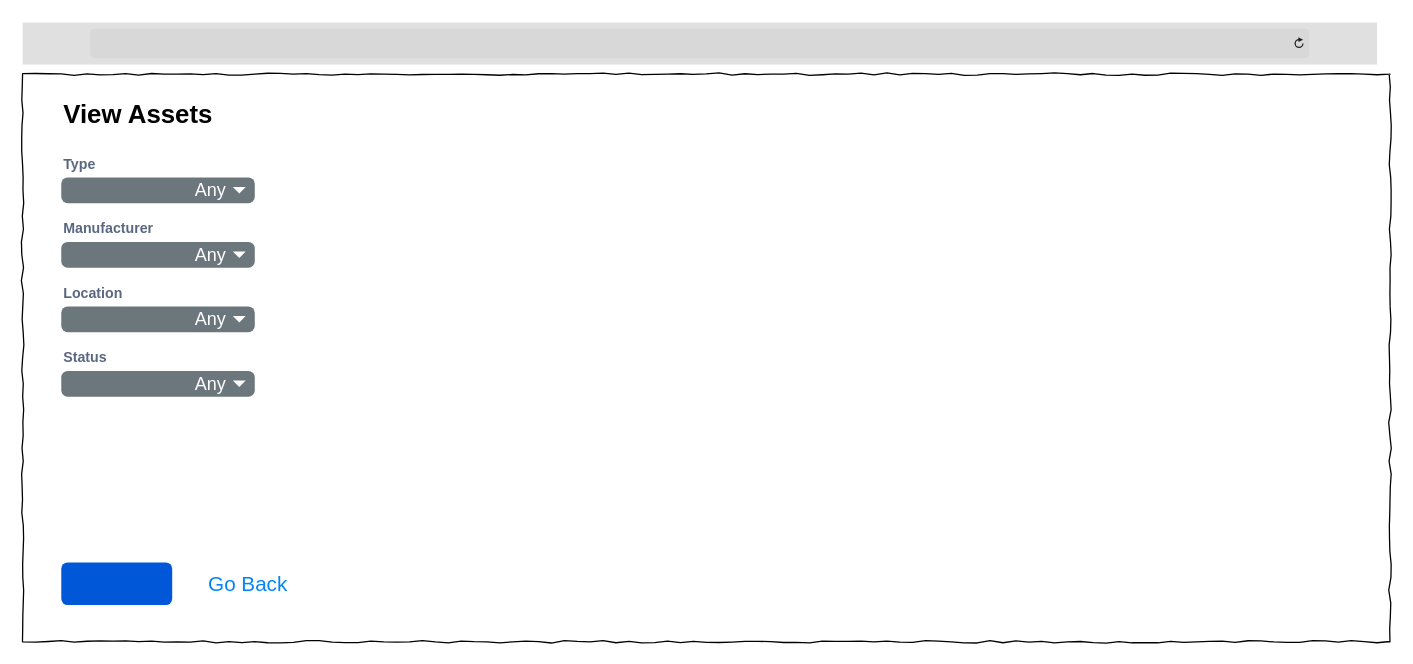
This 1413x664 diagram has some shape labels left out. The shapes that lost their labels are listed below. From the top down, each one's centre as x and y in pixels, then its label:
At point (699, 42): "companyitassets/assets/filter".
At point (116, 583): "Go".
